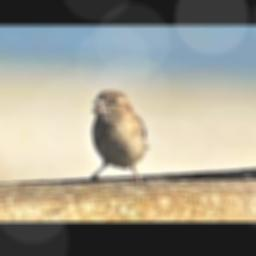Sparrow: (88, 89, 149, 182)
